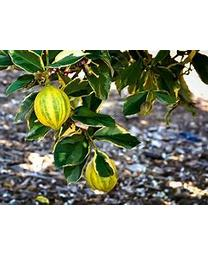lemon: (35, 86, 72, 130), (87, 158, 118, 193)
